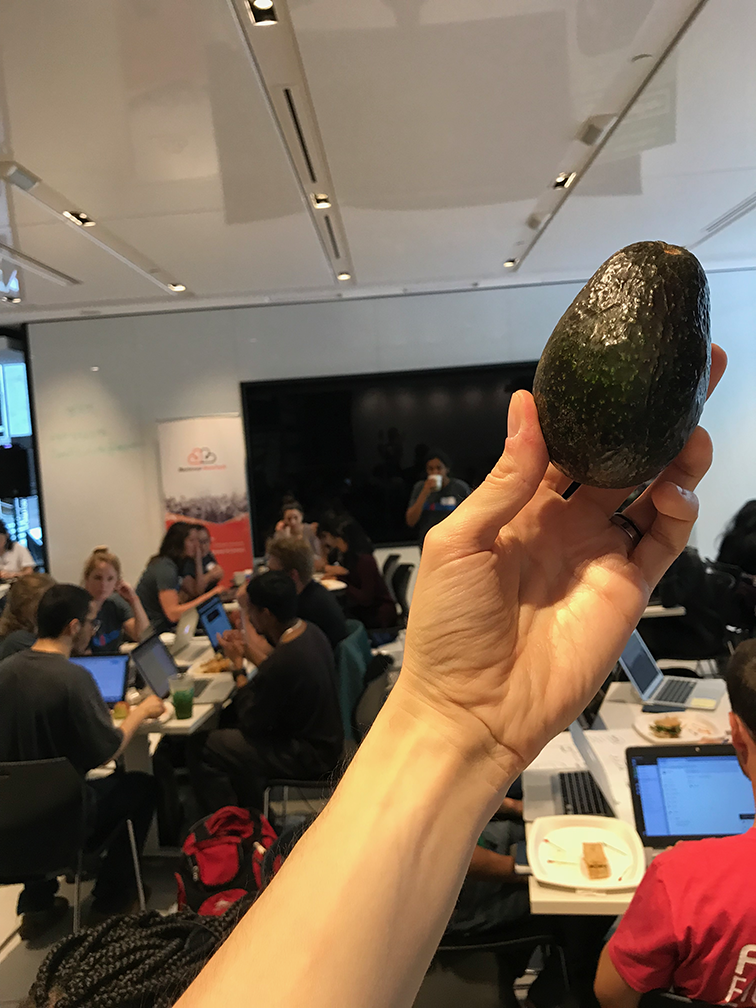avocado: (526, 237, 715, 497)
